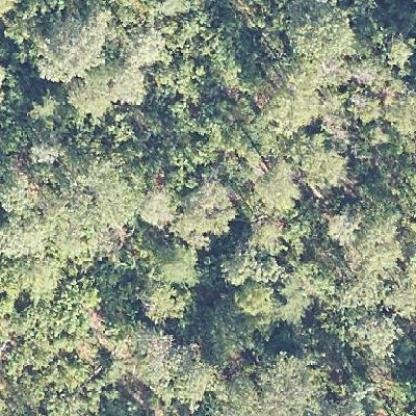tree-top: (279, 2, 360, 61), (34, 16, 107, 81), (180, 178, 238, 238), (286, 131, 343, 189), (252, 162, 306, 213), (138, 276, 190, 324), (323, 208, 359, 245)
